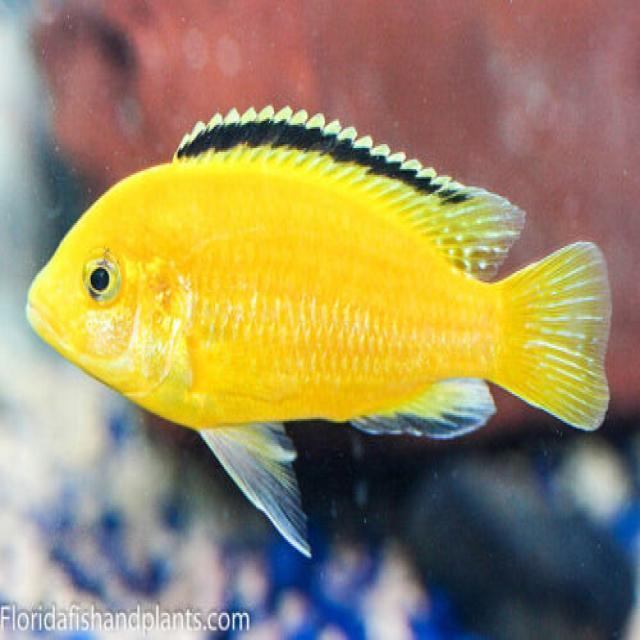YellowCichlid: (19, 89, 630, 566)
